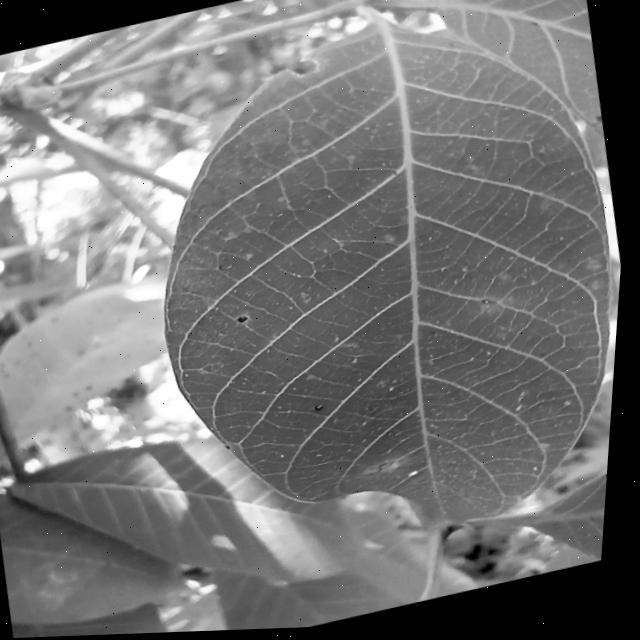Colletotrichum: (241, 317, 254, 325), (320, 406, 330, 415)
